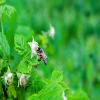Raspberry leaf: (29, 81, 64, 99), (13, 33, 27, 55), (51, 70, 63, 84)
